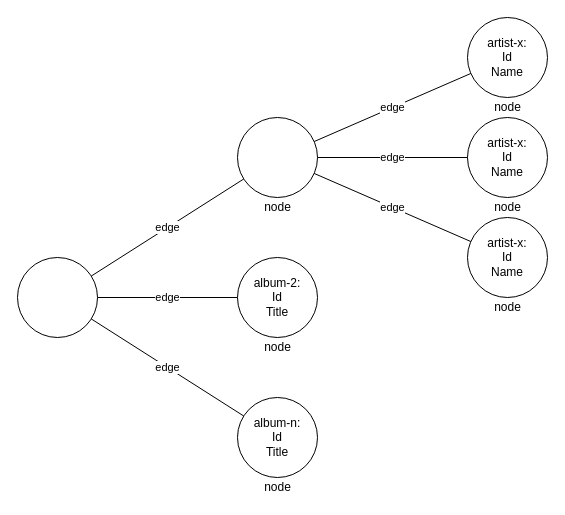
Some shapes in this 565 by 515 pixel diagram are drawn without their labels. Each missing label, with the centre of its shape:
album-1: Id Title: pixel 277 157
allAlbum result: pixel 57 297
